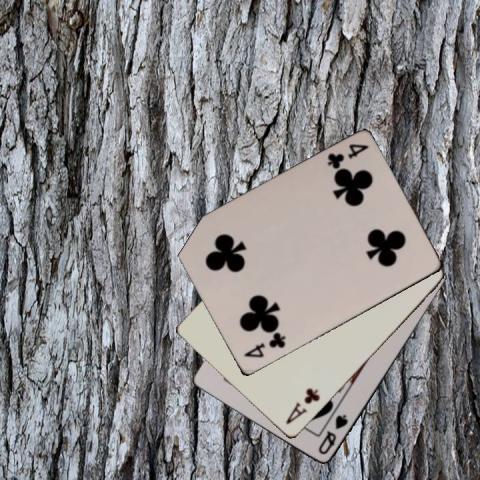4c: (240, 330, 286, 360), (324, 141, 370, 171)
Ac: (283, 385, 321, 426)
Qs: (315, 412, 350, 457)
